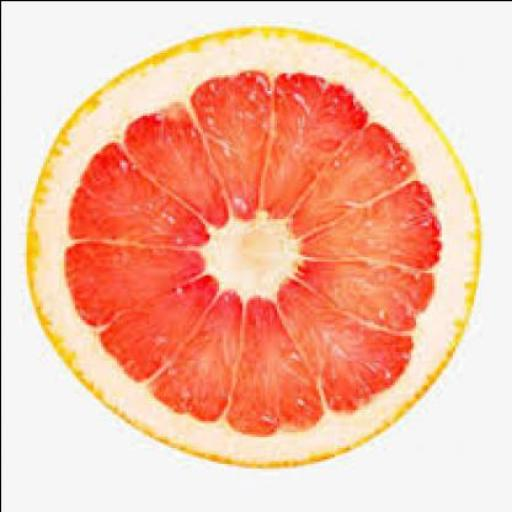biodegradable: (21, 20, 477, 465)
